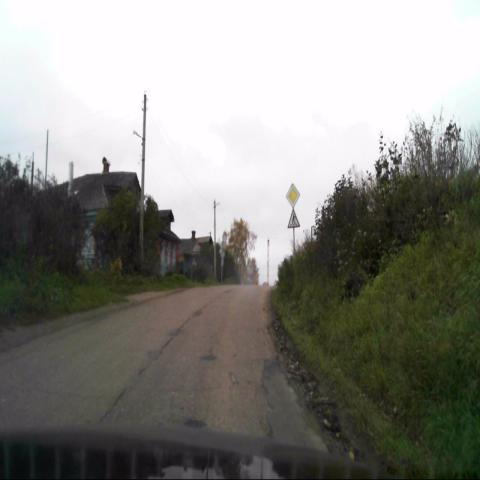1_22: (287, 208, 300, 227)
